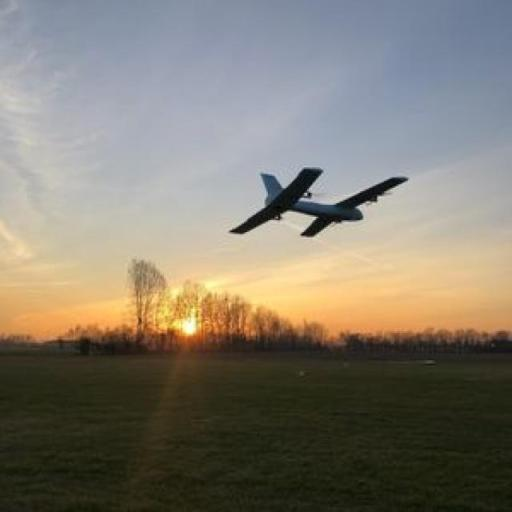uav: (220, 157, 410, 253)
